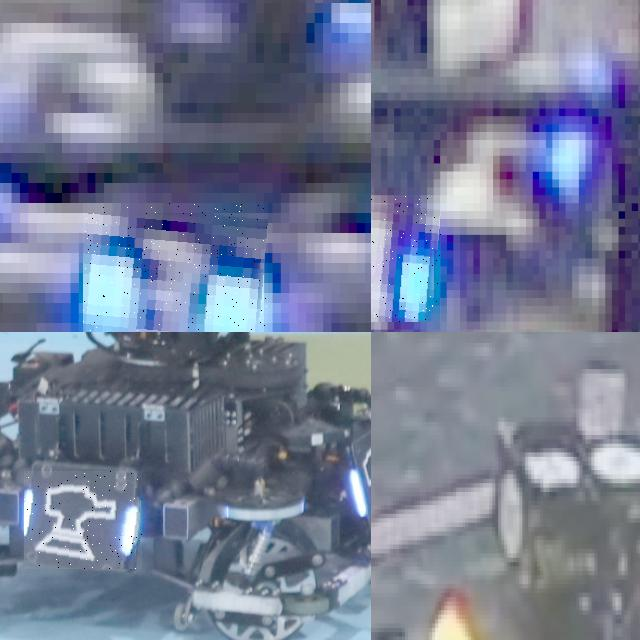B3: (82, 203, 268, 332)
B4: (371, 195, 440, 321)
Bs: (24, 472, 142, 570), (349, 438, 371, 522)
